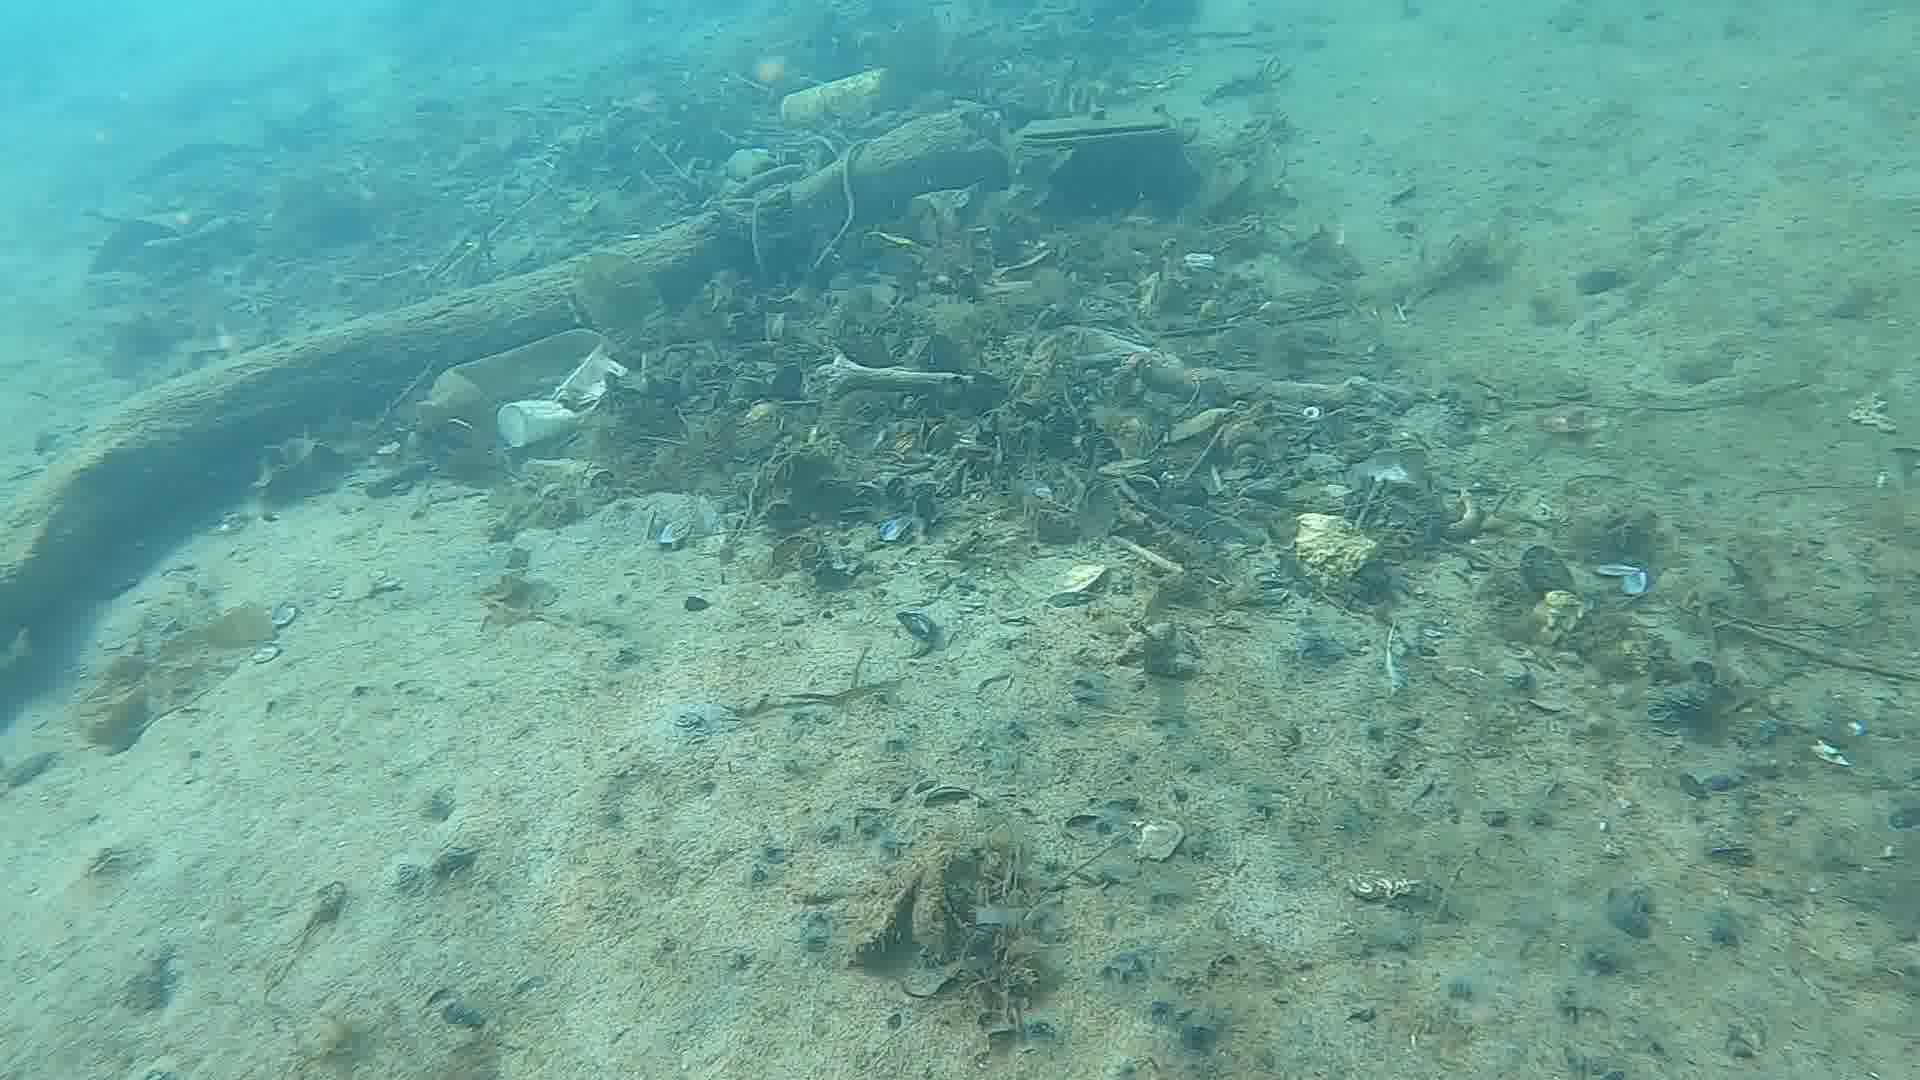wood: (0, 104, 1009, 624)
